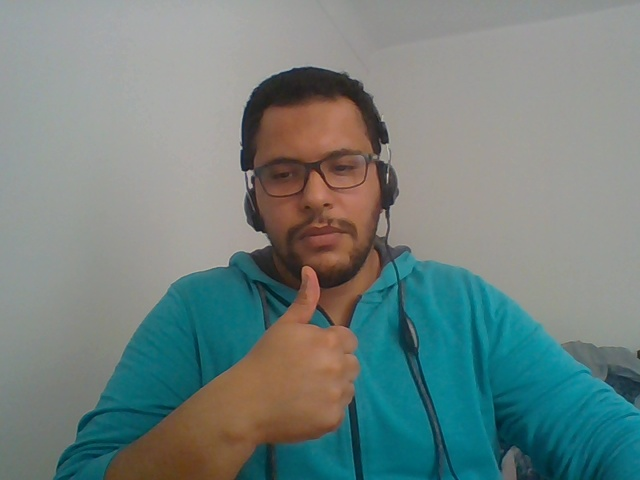ok: (225, 248, 371, 467)
